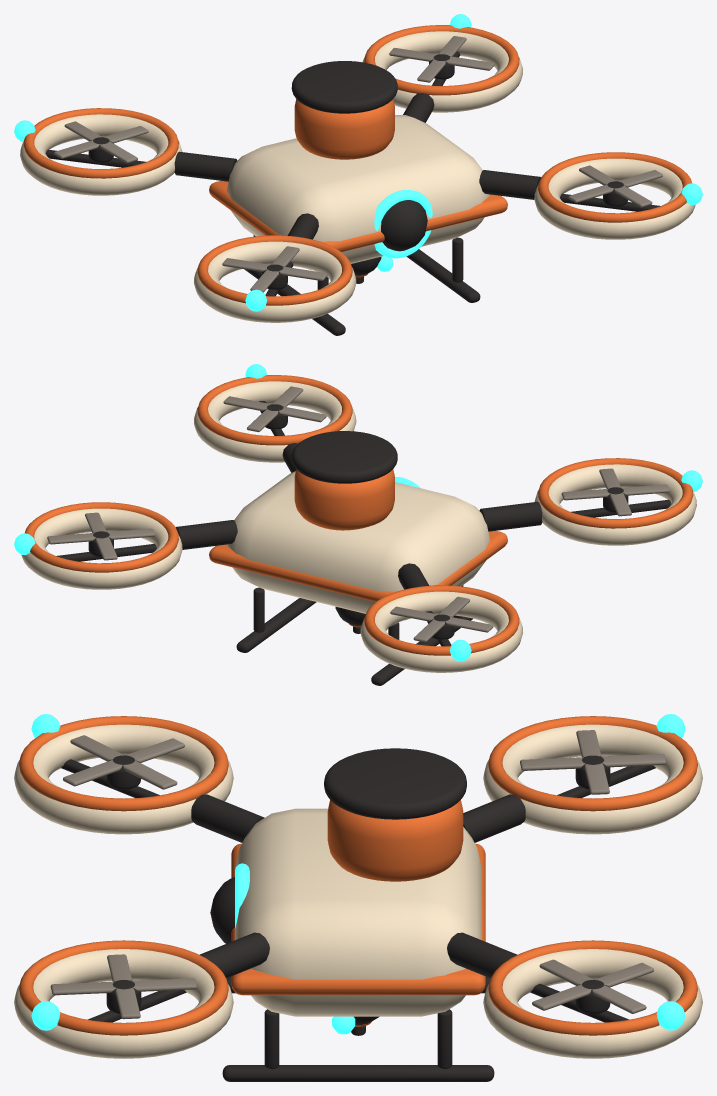
Rendered from drone.glb.
3 views of the same model, one above another, from view 1: azimuth 30°, elevation 25°; view 2: azimuth 150°, elevation 25°; view 3: azimuth 270°, elevation 25° (orthographic). The views are drawn at different scales.
Parts seen in each view (by area): view 1: Cube, Torus.001, Torus.003, Torus.005, Cylinder, Torus.007, Cylinder.001, Torus.004, Torus.006, Torus.002, Torus.008, Cube.001 (+19 smaller); view 2: Cube, Torus.003, Torus.001, Torus.007, Cylinder, Cylinder.001, Torus.005, Cube.001, Torus.002, Torus.008, Torus.006, Torus.004 (+16 smaller); view 3: Cube, Torus.005, Torus.007, Torus.003, Torus.001, Cylinder, Cylinder.001, Cube.001, Torus.002, Torus.004, Torus.006, Torus.008 (+25 smaller).
Boxes of the visible parts, x1,y1,x2,y2 form: Cube: [227, 115, 489, 270]; Torus.001: [194, 241, 356, 322]; Torus.003: [20, 114, 182, 195]; Torus.005: [534, 158, 695, 239]; Cylinder: [294, 99, 394, 159]; Torus.007: [362, 31, 522, 112]; Cylinder.001: [291, 61, 397, 113]; Torus.004: [23, 108, 178, 178]; Torus.006: [538, 152, 691, 222]; Torus.002: [197, 235, 352, 305]; Torus.008: [364, 25, 519, 95]; Cube.001: [209, 181, 507, 251]; Cube: [227, 471, 489, 620]; Torus.003: [360, 591, 522, 672]; Torus.001: [534, 464, 696, 545]; Torus.007: [21, 508, 182, 589]; Cylinder: [294, 469, 394, 530]; Cylinder.001: [291, 431, 397, 483]; Torus.005: [194, 381, 356, 462]; Cube.001: [209, 531, 507, 601]; Torus.002: [538, 458, 693, 528]; Torus.008: [25, 502, 178, 572]; Torus.006: [197, 375, 352, 445]; Torus.004: [364, 585, 519, 655]; Cube: [235, 808, 481, 1016]; Torus.005: [14, 949, 233, 1058]; Torus.007: [483, 949, 702, 1058]; Torus.003: [483, 724, 702, 834]; Torus.001: [14, 724, 233, 834]; Cylinder: [327, 800, 463, 881]; Cylinder.001: [324, 748, 466, 819]; Cube.001: [231, 843, 485, 995]; Torus.002: [19, 716, 228, 811]; Torus.004: [488, 716, 697, 811]; Torus.006: [19, 940, 228, 1035]; Torus.008: [488, 940, 697, 1035].
Size of the model in its own units: 0.608 by 0.232 by 0.558.
